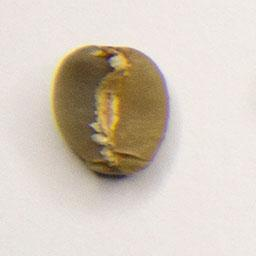premium: (49, 40, 174, 180)
